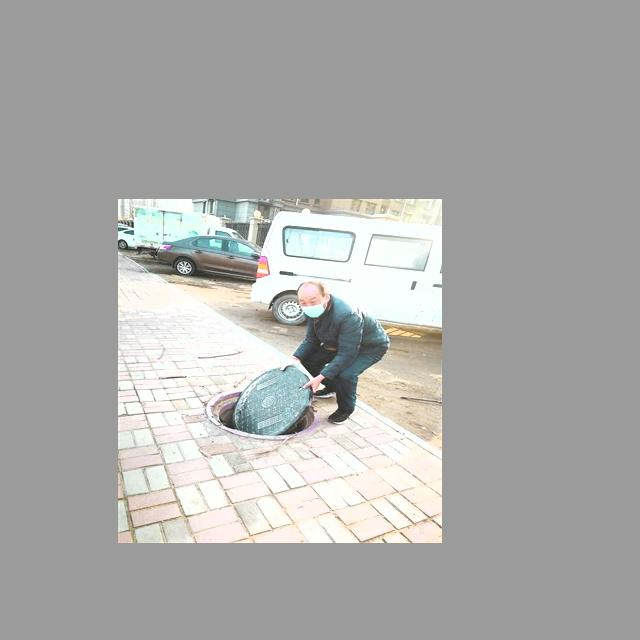uncovered: (191, 355, 326, 448)
